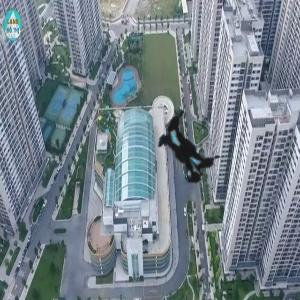drone: (87, 52, 290, 255)
